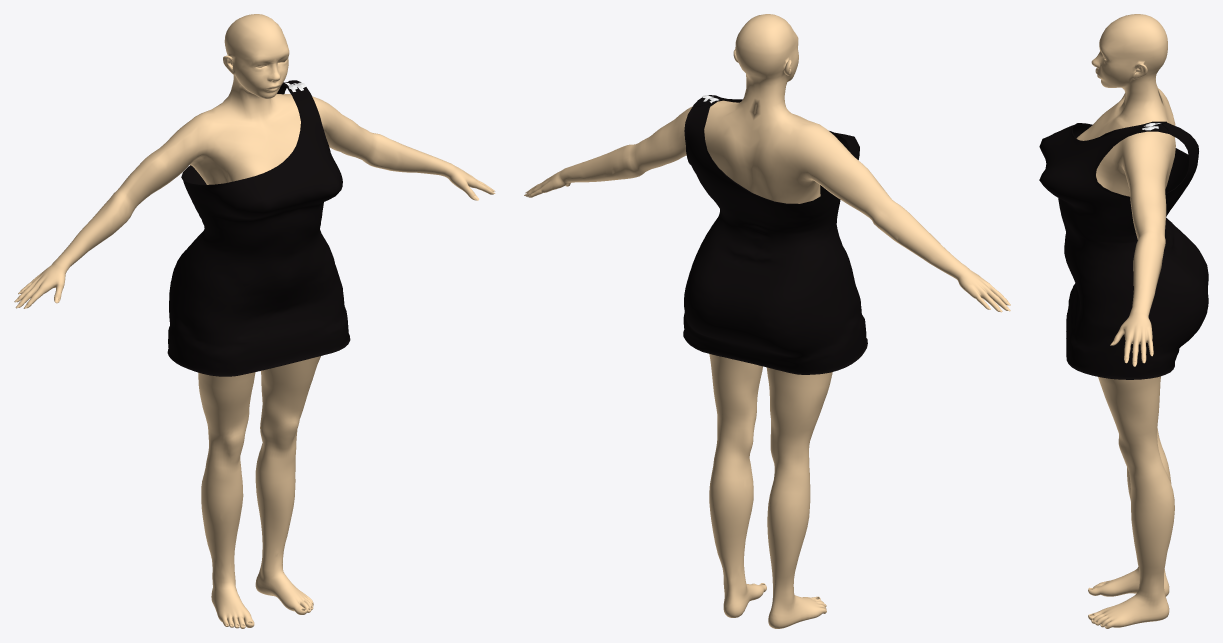
File: dress6.glb
3 views of the same model, side by side, from view 1: azimuth 30°, elevation 25°; view 2: azimuth 150°, elevation 25°; view 3: azimuth 270°, elevation 25° (orthographic).
Parts seen in each view (by area): view 1: Body.003, WhiteDress; view 2: Body.003, WhiteDress; view 3: Body.003, WhiteDress.
Boxes of the visible parts, bbox=[...] form: Body.003: bbox=[17, 14, 494, 628]; WhiteDress: bbox=[167, 80, 350, 376]; Body.003: bbox=[525, 14, 1008, 628]; WhiteDress: bbox=[683, 95, 867, 374]; Body.003: bbox=[1076, 14, 1175, 628]; WhiteDress: bbox=[1039, 121, 1208, 379].
Size of the model in its own units: 1.58 by 1.85 by 0.4799.
